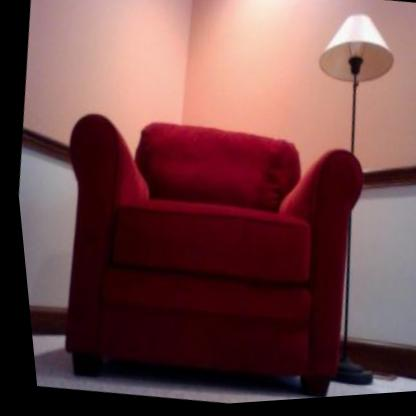Sofa: (28, 96, 384, 415)
